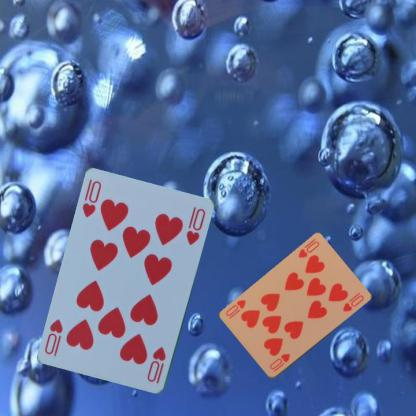10h: (144, 344, 168, 386), (80, 178, 103, 220), (267, 351, 291, 374), (296, 238, 320, 260)
